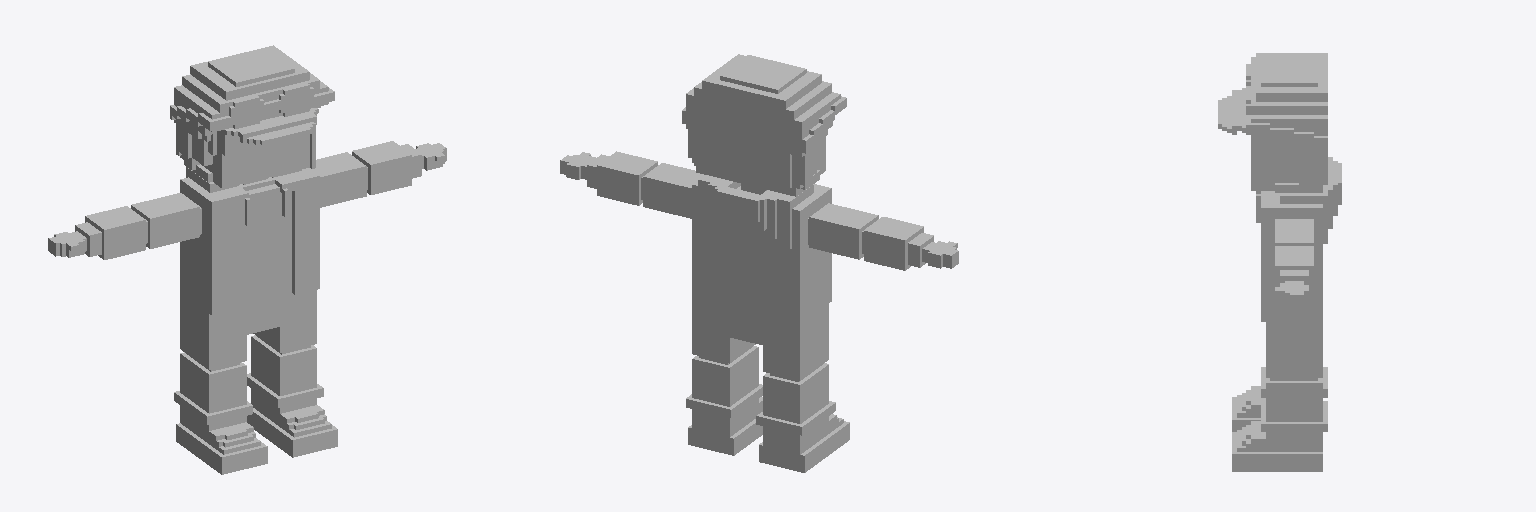
The model's file is NOAH OPTIMIZED.obj.
3 renders of one model, left to right at view 1: azimuth 30°, elevation 25°; view 2: azimuth 150°, elevation 25°; view 3: azimuth 270°, elevation 25°, orthographic.
Visible parts, largest first — view 1: NPAH.001; view 2: NPAH.001; view 3: NPAH.001.
Boxes of the visible parts, x1=… form: NPAH.001: x1=48, y1=45, x2=446, y2=474; NPAH.001: x1=560, y1=54, x2=958, y2=472; NPAH.001: x1=1218, y1=53, x2=1341, y2=471.
Size of the model in its own units: 94 by 86 by 26.